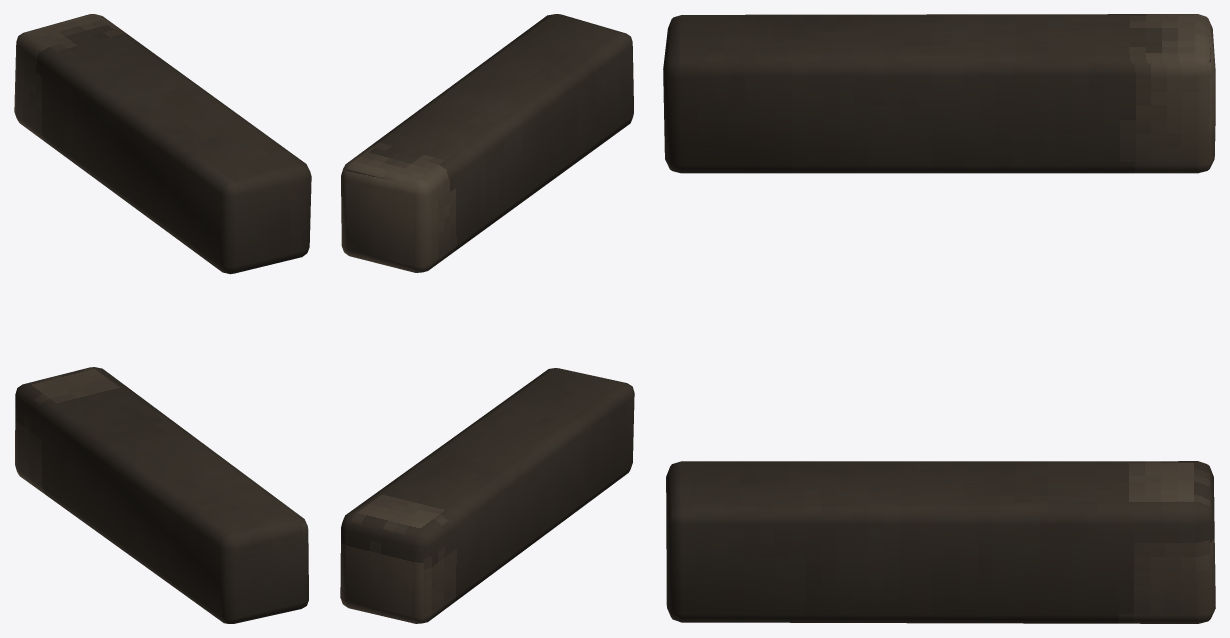
File: cask_fence_side.obj
3 views of the same model, side by side, from view 1: azimuth 30°, elevation 25°; view 2: azimuth 150°, elevation 25°; view 3: azimuth 270°, elevation 25° (orthographic). The views are drawn at different scales.
Visible parts, largest first — view 1: part0; view 2: part0; view 3: part0.
Boxes of the visible parts, x1,y1,x2,y2 form: part0: (14, 14, 311, 623); part0: (340, 14, 634, 623); part0: (663, 14, 1215, 623).
Size of the model in its own units: 0.1212 by 0.5714 by 0.5022.
